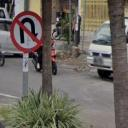NoVirarU: (12, 11, 42, 51)
